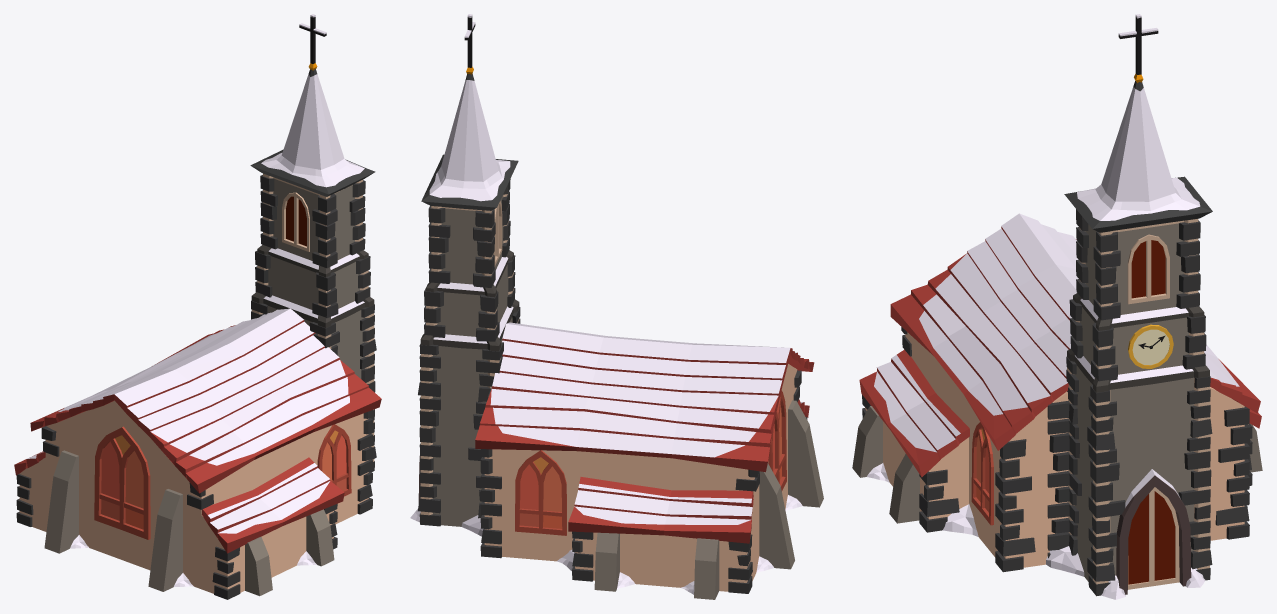
The model's file is church_lev5.glb.
3 views of the same model, side by side, from view 1: azimuth 30°, elevation 25°; view 2: azimuth 150°, elevation 25°; view 3: azimuth 270°, elevation 25° (orthographic). The views are drawn at different scales.
Visible parts, largest first — view 1: Church; view 2: Church; view 3: Church.
Boxes of the visible parts, x1=… form: Church: x1=14, y1=14, x2=381, y2=599; Church: x1=410, y1=14, x2=823, y2=599; Church: x1=852, y1=14, x2=1262, y2=599.
Size of what is drawn, in the model's own units: 50.89 by 66.24 by 44.41.
Materials: 1 (1 with a texture image).
